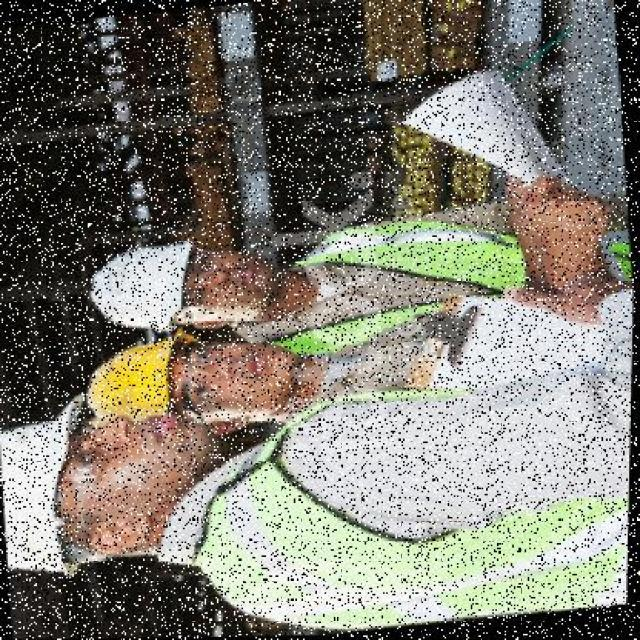helmet: (86, 235, 218, 339)
